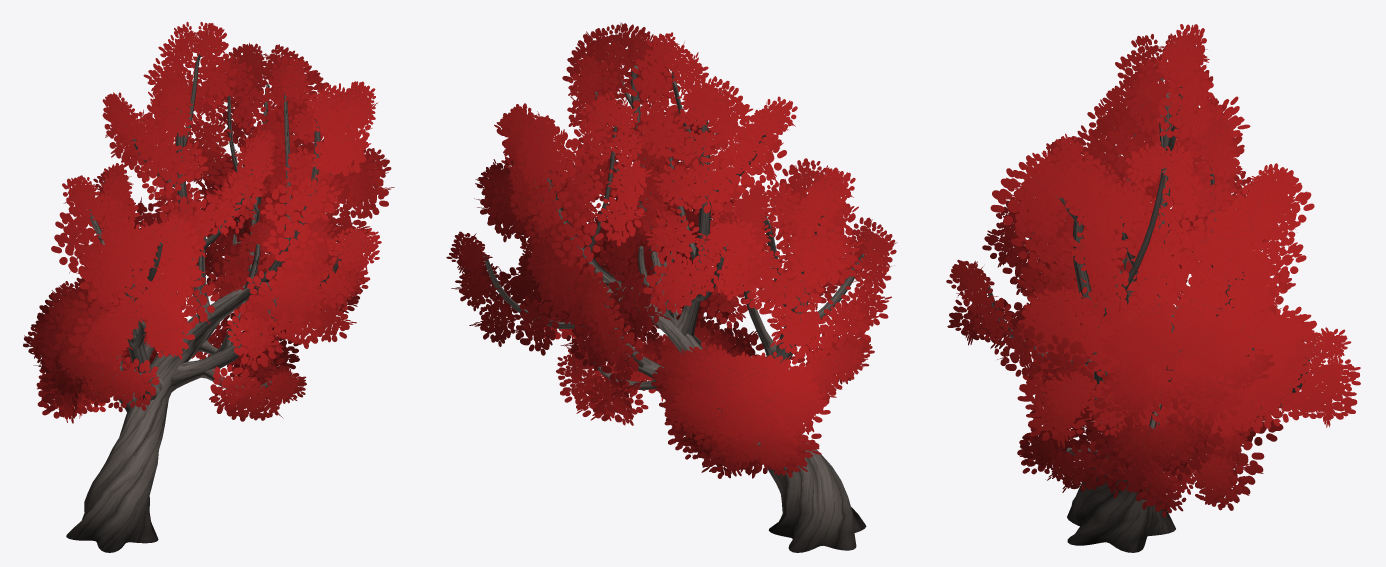
The model's file is TwistedTree_1.glb.
The picture shows the model from 3 angles, left to right: view 1: azimuth 30°, elevation 25°; view 2: azimuth 150°, elevation 25°; view 3: azimuth 270°, elevation 25°; orthographic projection. The views are drawn at different scales.
Parts seen in each view (by area): view 1: TwistedTree_1; view 2: TwistedTree_1; view 3: TwistedTree_1.
Part boxes in pixels (x1,y1,x2,y2): TwistedTree_1: [23, 21, 394, 552]; TwistedTree_1: [446, 22, 897, 552]; TwistedTree_1: [946, 24, 1360, 552].
Size of the model in its own units: 13.52 by 16.73 by 11.55.
2 materials, 2 textured.
